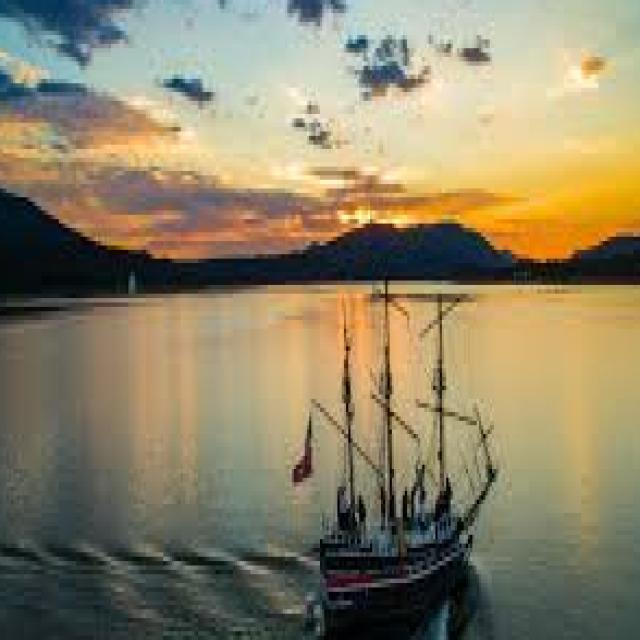fishing boat: (288, 261, 498, 621)
